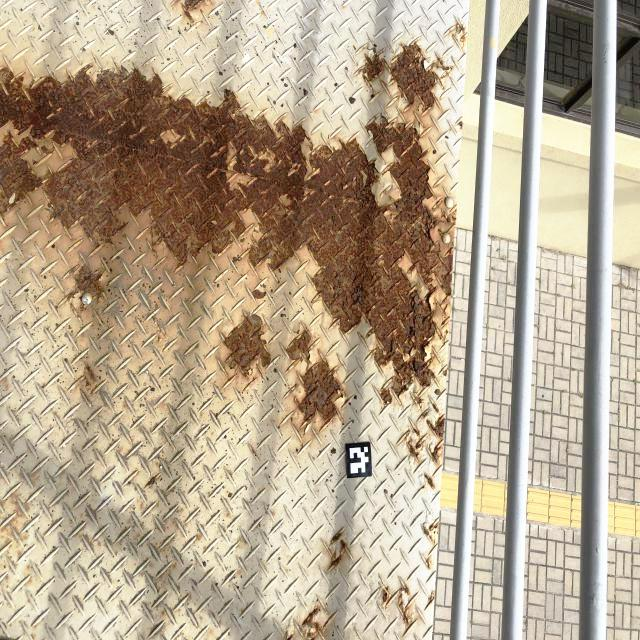Corrosion: (0, 58, 457, 408), (356, 37, 453, 119), (282, 321, 347, 440), (218, 307, 273, 391), (64, 257, 110, 321), (403, 403, 445, 469), (282, 604, 329, 640), (0, 488, 26, 543), (323, 531, 351, 574), (75, 364, 99, 403), (397, 583, 415, 634), (421, 510, 439, 547), (180, 0, 206, 25), (448, 19, 466, 53), (378, 578, 392, 609), (153, 324, 168, 348), (412, 385, 424, 413), (423, 472, 436, 491), (425, 553, 434, 571), (18, 502, 28, 518), (427, 587, 434, 605), (146, 476, 157, 487), (14, 554, 25, 564), (169, 562, 178, 572), (250, 447, 258, 458), (23, 565, 32, 574), (17, 540, 26, 548), (171, 0, 181, 7), (457, 121, 463, 130), (442, 368, 447, 378), (195, 534, 201, 541), (161, 528, 168, 534), (420, 484, 425, 490), (7, 543, 12, 549), (160, 610, 163, 620)
